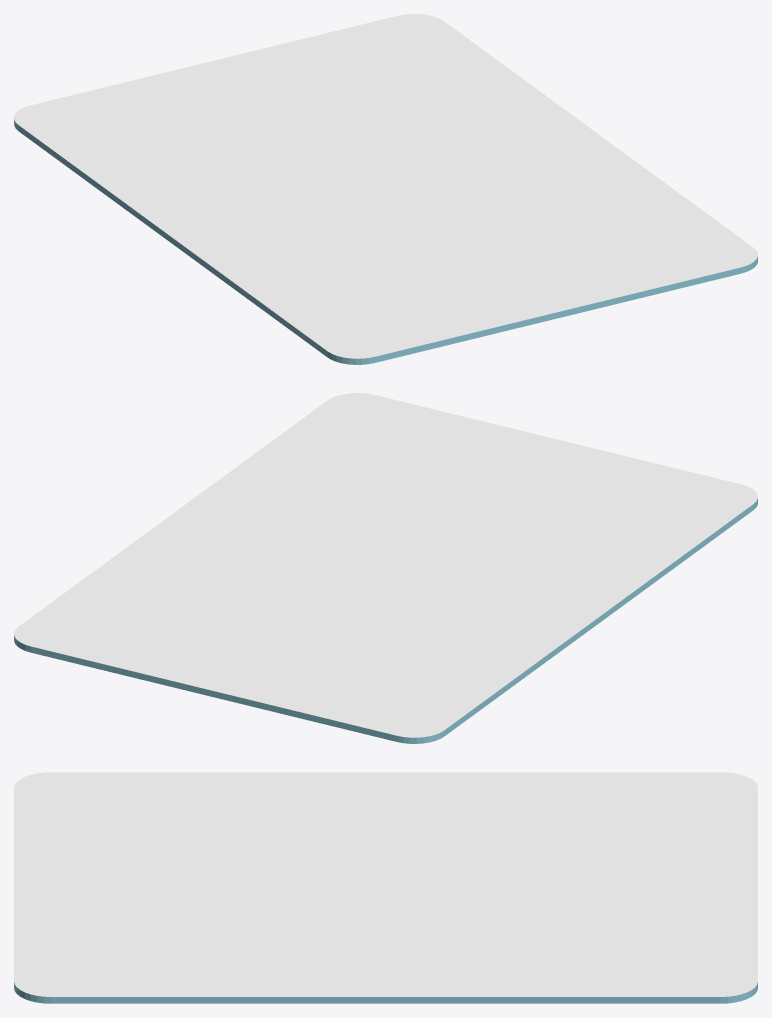
The model's file is card_shatter_05.glb.
The picture shows the model from 3 angles, top to bottom: view 1: azimuth 30°, elevation 25°; view 2: azimuth 150°, elevation 25°; view 3: azimuth 270°, elevation 25°; orthographic projection. The views are drawn at different scales.
Visible parts, largest first — view 1: V05_CardPiece_06, V05_CardPiece_08, V05_CardPiece_03, V05_CardPiece_01, V05_CardPiece_05, V05_CardPiece_10, V05_CardPiece_02, V05_CardPiece_09, V05_CardPiece_04, V05_CardPiece_07; view 2: V05_CardPiece_06, V05_CardPiece_08, V05_CardPiece_03, V05_CardPiece_10, V05_CardPiece_05, V05_CardPiece_01, V05_CardPiece_02, V05_CardPiece_09, V05_CardPiece_04, V05_CardPiece_07; view 3: V05_CardPiece_06, V05_CardPiece_08, V05_CardPiece_10, V05_CardPiece_05, V05_CardPiece_03, V05_CardPiece_01, V05_CardPiece_02, V05_CardPiece_09, V05_CardPiece_04, V05_CardPiece_07.
Part boxes in pixels (x1,y1,x2,y2): V05_CardPiece_06: [14, 77, 230, 248]; V05_CardPiece_08: [147, 32, 391, 185]; V05_CardPiece_03: [406, 222, 655, 341]; V05_CardPiece_01: [179, 238, 460, 364]; V05_CardPiece_05: [559, 146, 757, 294]; V05_CardPiece_10: [351, 14, 613, 160]; V05_CardPiece_02: [199, 189, 434, 288]; V05_CardPiece_09: [330, 27, 514, 187]; V05_CardPiece_04: [392, 158, 596, 256]; V05_CardPiece_07: [190, 112, 393, 223]; V05_CardPiece_06: [281, 603, 604, 743]; V05_CardPiece_08: [97, 564, 381, 713]; V05_CardPiece_03: [426, 416, 654, 529]; V05_CardPiece_10: [14, 502, 268, 663]; V05_CardPiece_05: [189, 393, 459, 515]; V05_CardPiece_01: [586, 463, 757, 618]; V05_CardPiece_02: [389, 506, 586, 607]; V05_CardPiece_09: [77, 531, 383, 668]; V05_CardPiece_04: [243, 453, 434, 561]; V05_CardPiece_07: [331, 562, 540, 673]; V05_CardPiece_06: [372, 772, 757, 848]; V05_CardPiece_08: [385, 847, 757, 945]; V05_CardPiece_10: [352, 949, 757, 1003]; V05_CardPiece_05: [14, 929, 353, 1003]; V05_CardPiece_03: [14, 833, 279, 936]; V05_CardPiece_01: [14, 772, 373, 836]; V05_CardPiece_02: [147, 782, 385, 885]; V05_CardPiece_09: [372, 887, 757, 956]; V05_CardPiece_04: [115, 884, 379, 967]; V05_CardPiece_07: [376, 802, 656, 887].
Bounding box in the file's own units: 0.429 × 0.006 × 0.6.
